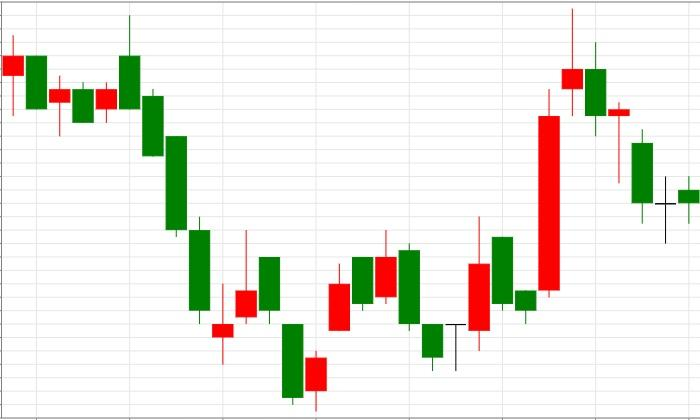morning_star_rise: (119, 15, 257, 365)
